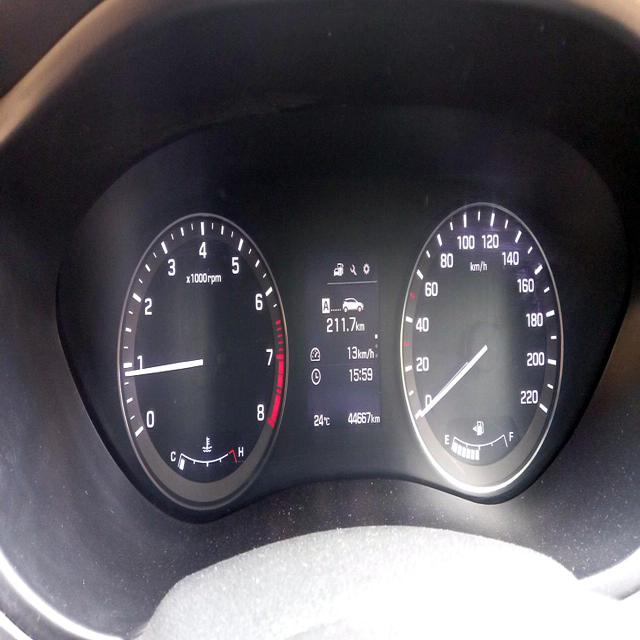odometer: (347, 408, 371, 426)
